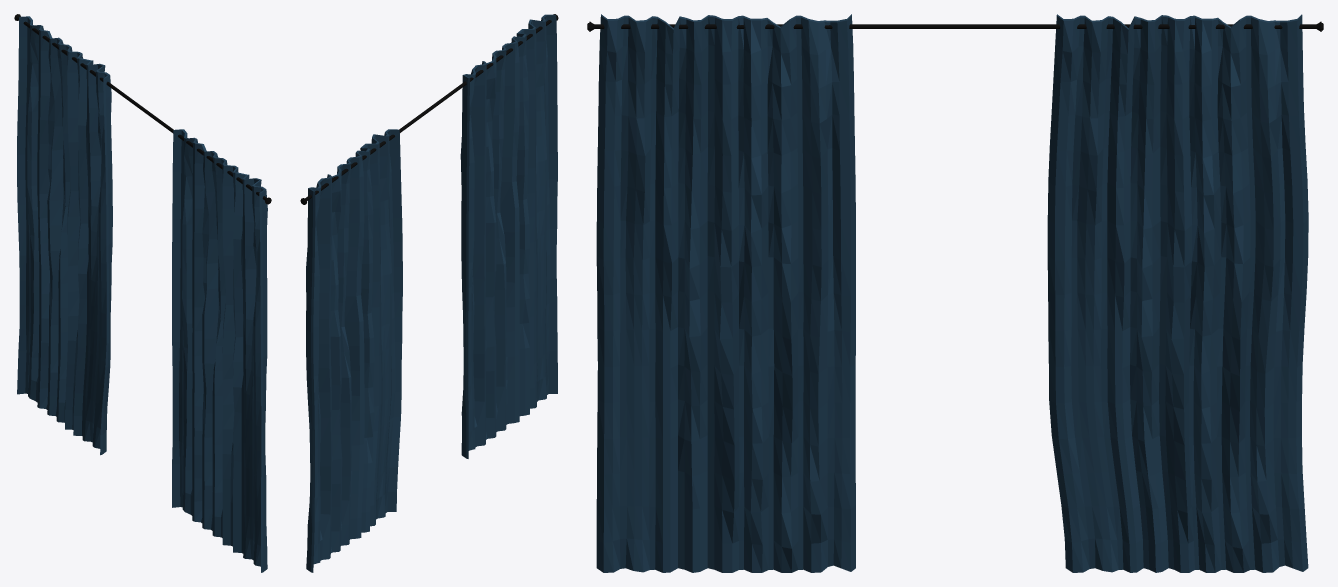
The model's file is curtains.obj.
3 views of the same model, side by side, from view 1: azimuth 30°, elevation 25°; view 2: azimuth 150°, elevation 25°; view 3: azimuth 270°, elevation 25° (orthographic). The views are drawn at different scales.
Bounding box in the file's own units: 0.4746 × 7.65 × 9.2.
